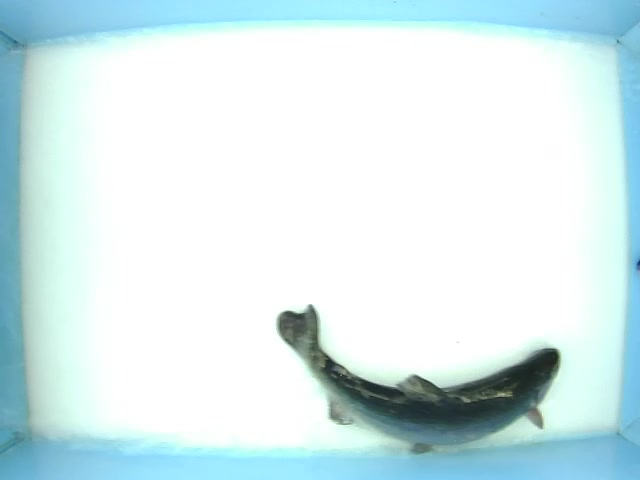fish: (262, 292, 579, 449)
